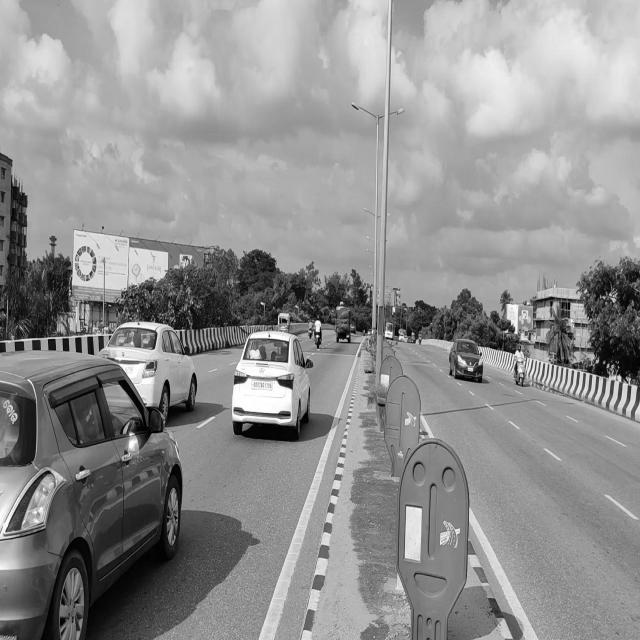car: (0, 348, 182, 640), (92, 316, 200, 411), (232, 322, 310, 438), (448, 336, 490, 385)
license-plate: (240, 374, 283, 402)
